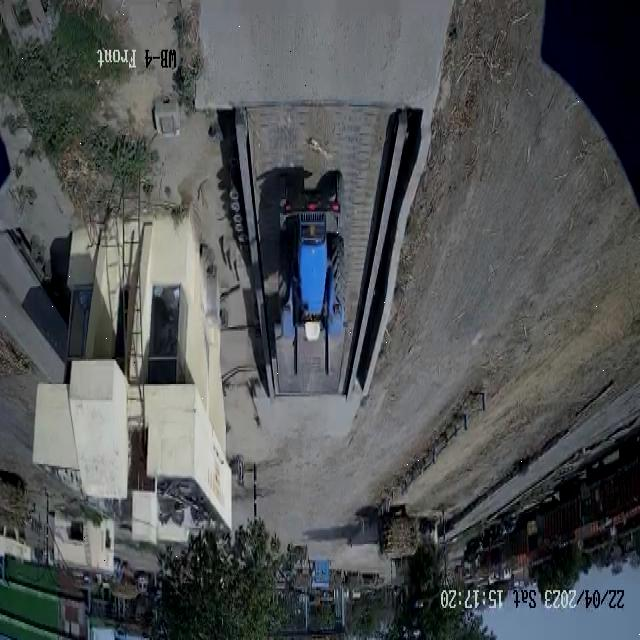Tratores - v5 YOLO V8L 2024-11-13: (273, 152, 346, 391)
